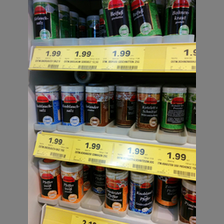spices: (162, 85, 187, 134), (131, 1, 163, 36), (136, 84, 159, 132), (60, 83, 85, 126), (34, 84, 60, 125), (164, 1, 195, 35), (84, 85, 109, 127), (102, 1, 131, 36), (32, 1, 59, 38), (105, 168, 128, 211), (130, 172, 153, 215), (38, 158, 61, 200), (60, 163, 84, 203), (116, 84, 136, 127)
